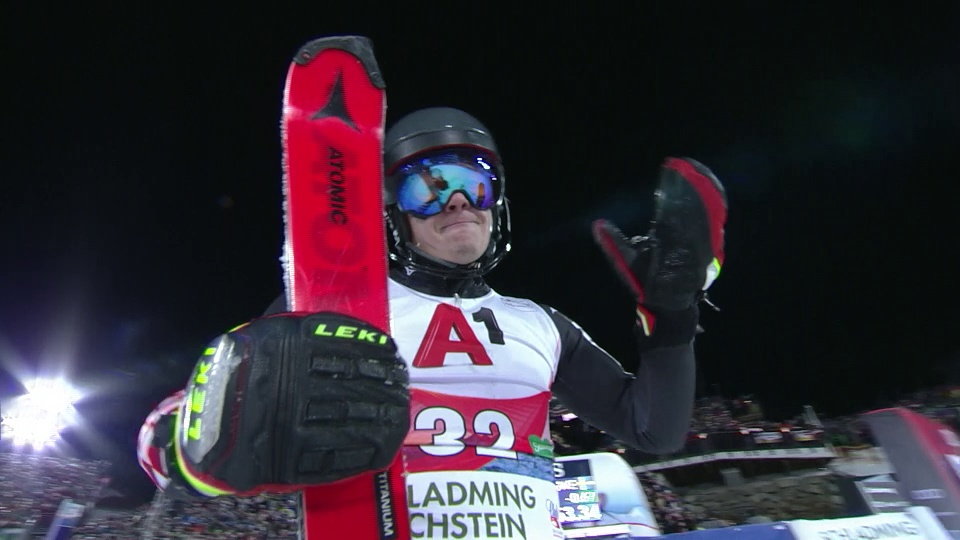a1: (405, 301, 518, 370)
schladming: (405, 478, 548, 540)
